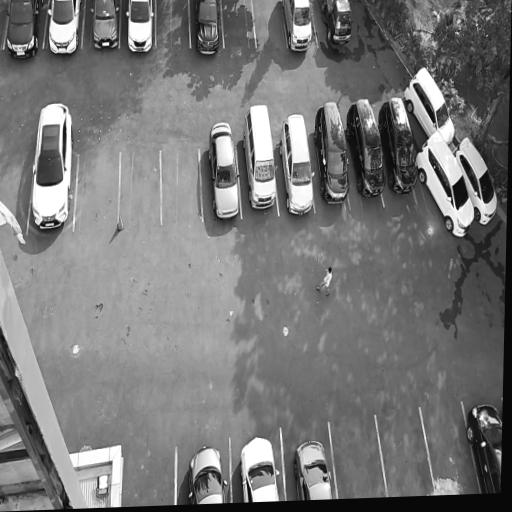Car: (414, 128, 479, 242), (27, 94, 77, 234), (309, 94, 355, 210), (342, 91, 389, 202), (238, 100, 281, 216), (274, 108, 319, 217), (451, 134, 502, 229), (374, 94, 420, 197), (401, 63, 457, 147), (205, 113, 242, 221), (464, 400, 502, 494), (238, 431, 282, 503), (290, 435, 336, 501), (185, 439, 230, 504), (2, 0, 46, 60), (281, 0, 319, 58), (46, 0, 85, 55), (193, 0, 225, 60), (318, 0, 356, 47), (126, 0, 155, 60), (90, 0, 121, 50)
Space Available: (420, 401, 481, 494), (375, 407, 436, 497), (329, 413, 388, 499), (74, 152, 119, 229), (119, 148, 161, 226), (161, 149, 202, 225), (129, 446, 175, 506), (0, 156, 33, 232), (220, 0, 256, 51), (251, 0, 287, 47), (156, 0, 190, 48)
